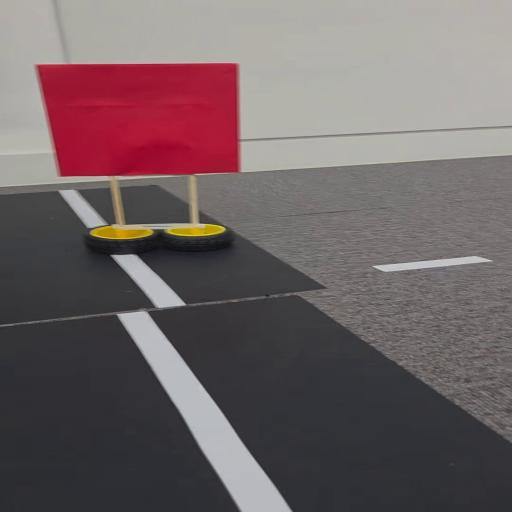Sign_A: (35, 57, 256, 260)
